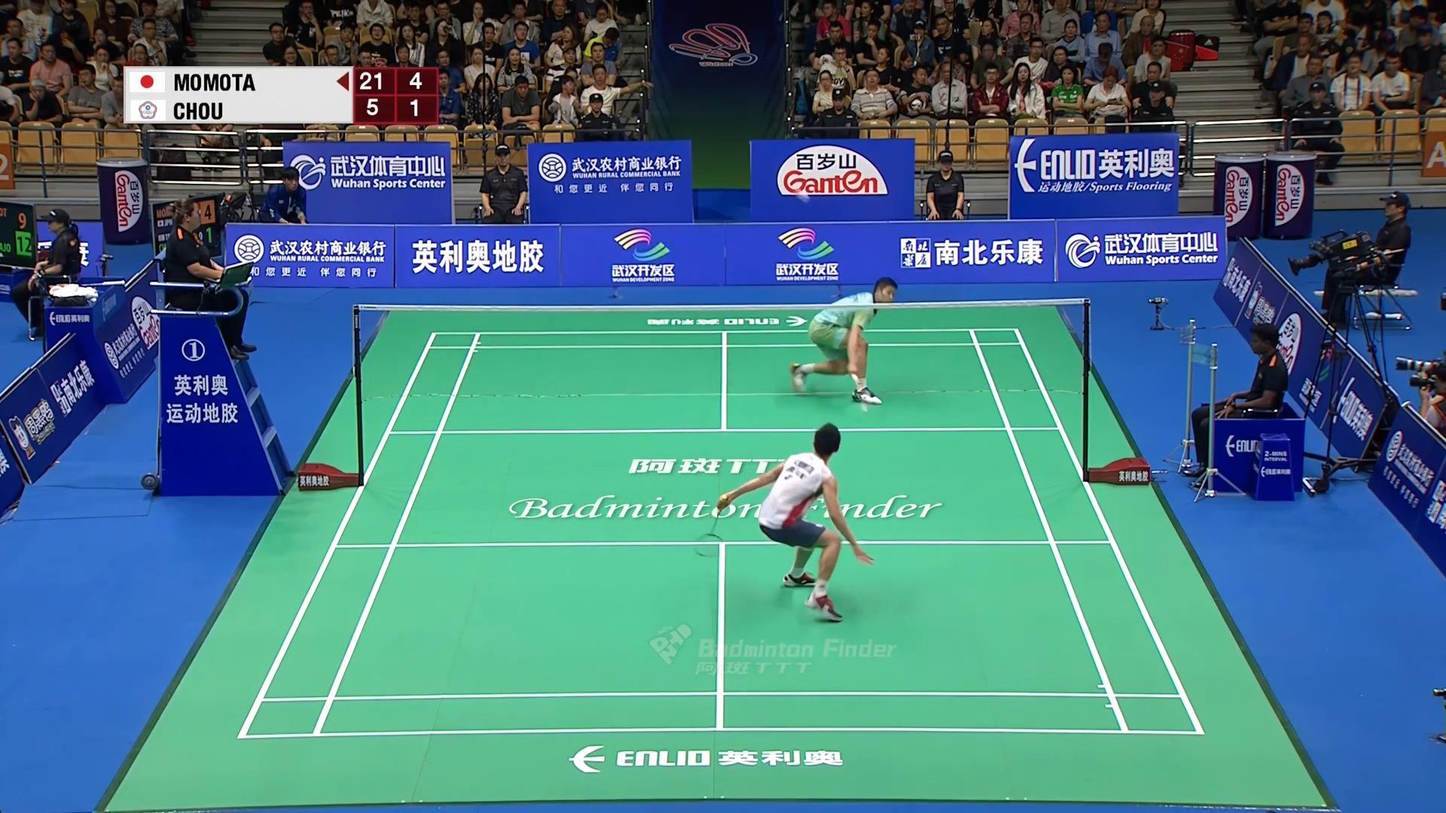player: (713, 423, 874, 623), (789, 276, 899, 407)
shuttlecock: (795, 189, 810, 204)
